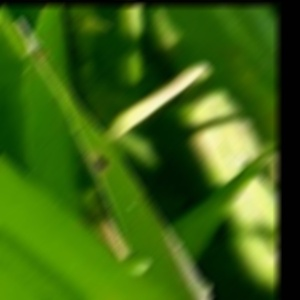Bacterial_Leaf_Blight: (89, 151, 115, 175)
